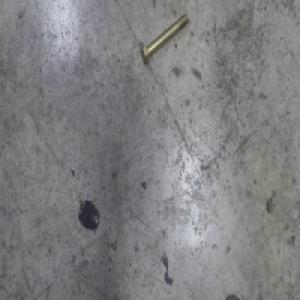Bolt: (140, 11, 190, 64)
